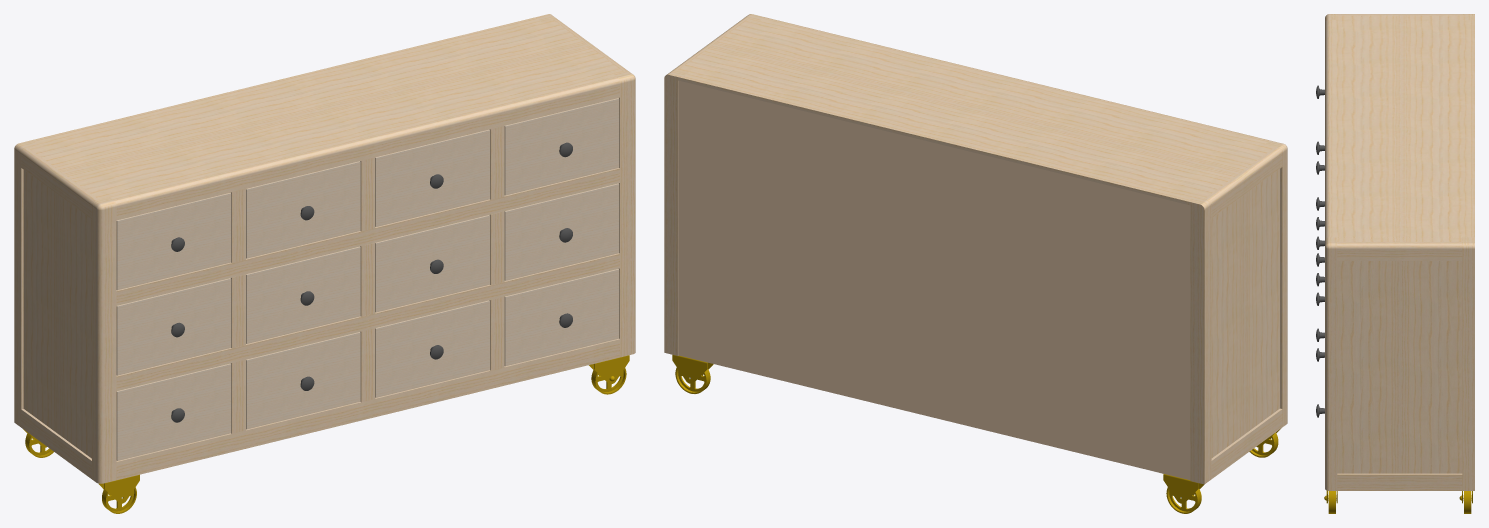
File: IFD6531CNS-mwmnpqvy.glb
3 views of the same model, side by side, from view 1: azimuth 30°, elevation 25°; view 2: azimuth 150°, elevation 25°; view 3: azimuth 270°, elevation 25° (orthographic). The views are drawn at different scales.
Parts seen in each view (by area): view 1: IFD3001CNS- VISTA DE CAJON-1 (×12), IFD3001CNS- CUBIERTA-1, IFD3001CNS- TABLERO DE COSTADO-1, IFD3001CNS-HUACAL FRONTAL-1/IFD3001CNS- ARMADOR FRONTAL CENT (×2), IFD3001CNS-HUACAL FRONTAL-1/IFD3001CNS- ARMADOR FRONTAL-1, IFD3001CNS-HUACAL FRONTAL-1/IFD3001CNS- ARMADOR FRONTAL-2, IFD3001CNS-HUACAL FRONTAL-1/IFD3001CNS- POSTE FRONTAL CENTRA (×3), IFD3001CNS-HUACAL FRONTAL-1/IFD3001CNS- POSTE FRONTAL-1, IFD3001CNS-HUACAL FRONTAL-1/IFD3001CNS- POSTE FRONTAL-2, IFD3001CNS-HUACAL POSTERIOR-1/IFD3001CNS- POSTE POSTERIOR-1, IFD3001CNS- ARMADOR DE COSTADO-8, IFD3001CNS- ARMADOR DE COSTADO-9; view 2: IFD3001CNS- RESPALDO-1, IFD3001CNS- CUBIERTA-1, IFD3001CNS- TABLERO DE COSTADO-1, IFD3001CNS-HUACAL POSTERIOR-1/IFD3001CNS- POSTE POSTERIOR-1, IFD3001CNS-HUACAL POSTERIOR-1/IFD3001CNS- POSTE POSTERIOR-2, IFD3001CNS-HUACAL FRONTAL-1/IFD3001CNS- POSTE FRONTAL-1, IFD3001CNS- ARMADOR DE COSTADO-8, IFD3001CNS- ARMADOR DE COSTADO-9, IFD3001CNS-HUACAL FRONTAL-1/IFD3001CNS- ARMADOR FRONTAL-1; view 3: IFD3001CNS- CUBIERTA-1, IFD3001CNS- TABLERO DE COSTADO-2, IFD3001CNS-HUACAL POSTERIOR-1/IFD3001CNS- POSTE POSTERIOR-2, IFD3001CNS-HUACAL FRONTAL-1/IFD3001CNS- POSTE FRONTAL-2, IFD3001CNS- ARMADOR DE COSTADO-7, IFD3001CNS- ARMADOR DE COSTADO-10, IFD3001CNS-HUACAL FRONTAL-1/IFD3001CNS- ARMADOR FRONTAL-1, IFD3001CNS- ARMADOR DE COSTADO-8.
Part boxes in pixels (x1=…): IFD3001CNS- VISTA DE CAJON-1 (×12): x1=116, y1=98, x2=619, y2=460; IFD3001CNS- CUBIERTA-1: x1=29, y1=17, x2=622, y2=199; IFD3001CNS- TABLERO DE COSTADO-1: x1=23, y1=170, x2=91, y2=458; IFD3001CNS-HUACAL FRONTAL-1/IFD3001CNS- ARMADOR FRONTAL CENT (×2): x1=116, y1=168, x2=619, y2=390; IFD3001CNS-HUACAL FRONTAL-1/IFD3001CNS- ARMADOR FRONTAL-1: x1=113, y1=76, x2=619, y2=220; IFD3001CNS-HUACAL FRONTAL-1/IFD3001CNS- ARMADOR FRONTAL-2: x1=116, y1=338, x2=619, y2=479; IFD3001CNS-HUACAL FRONTAL-1/IFD3001CNS- POSTE FRONTAL CENTRA (×3): x1=230, y1=126, x2=504, y2=433; IFD3001CNS-HUACAL FRONTAL-1/IFD3001CNS- POSTE FRONTAL-1: x1=92, y1=197, x2=116, y2=483; IFD3001CNS-HUACAL FRONTAL-1/IFD3001CNS- POSTE FRONTAL-2: x1=613, y1=71, x2=635, y2=357; IFD3001CNS-HUACAL POSTERIOR-1/IFD3001CNS- POSTE POSTERIOR-1: x1=14, y1=140, x2=38, y2=427; IFD3001CNS- ARMADOR DE COSTADO-8: x1=21, y1=148, x2=98, y2=219; IFD3001CNS- ARMADOR DE COSTADO-9: x1=21, y1=409, x2=91, y2=478; IFD3001CNS- RESPALDO-1: x1=678, y1=80, x2=1190, y2=479; IFD3001CNS- CUBIERTA-1: x1=679, y1=18, x2=1274, y2=204; IFD3001CNS- TABLERO DE COSTADO-1: x1=1211, y1=169, x2=1279, y2=457; IFD3001CNS-HUACAL POSTERIOR-1/IFD3001CNS- POSTE POSTERIOR-1: x1=1187, y1=196, x2=1211, y2=484; IFD3001CNS-HUACAL POSTERIOR-1/IFD3001CNS- POSTE POSTERIOR-2: x1=664, y1=69, x2=688, y2=355; IFD3001CNS-HUACAL FRONTAL-1/IFD3001CNS- POSTE FRONTAL-1: x1=1265, y1=140, x2=1287, y2=427; IFD3001CNS- ARMADOR DE COSTADO-8: x1=1205, y1=147, x2=1282, y2=218; IFD3001CNS- ARMADOR DE COSTADO-9: x1=1211, y1=408, x2=1282, y2=478; IFD3001CNS-HUACAL FRONTAL-1/IFD3001CNS- ARMADOR FRONTAL-1: x1=763, y1=17, x2=1269, y2=141; IFD3001CNS- CUBIERTA-1: x1=1332, y1=15, x2=1474, y2=241; IFD3001CNS- TABLERO DE COSTADO-2: x1=1337, y1=261, x2=1462, y2=473; IFD3001CNS-HUACAL POSTERIOR-1/IFD3001CNS- POSTE POSTERIOR-2: x1=1462, y1=237, x2=1474, y2=490; IFD3001CNS-HUACAL FRONTAL-1/IFD3001CNS- POSTE FRONTAL-2: x1=1325, y1=237, x2=1337, y2=490; IFD3001CNS- ARMADOR DE COSTADO-7: x1=1337, y1=242, x2=1462, y2=260; IFD3001CNS- ARMADOR DE COSTADO-10: x1=1337, y1=473, x2=1462, y2=490; IFD3001CNS-HUACAL FRONTAL-1/IFD3001CNS- ARMADOR FRONTAL-1: x1=1325, y1=20, x2=1331, y2=239; IFD3001CNS- ARMADOR DE COSTADO-8: x1=1337, y1=14, x2=1462, y2=15.
Size of the model in its own units: 1.54 by 0.8596 by 0.445.
Materials: 13 (5 with a texture image).
